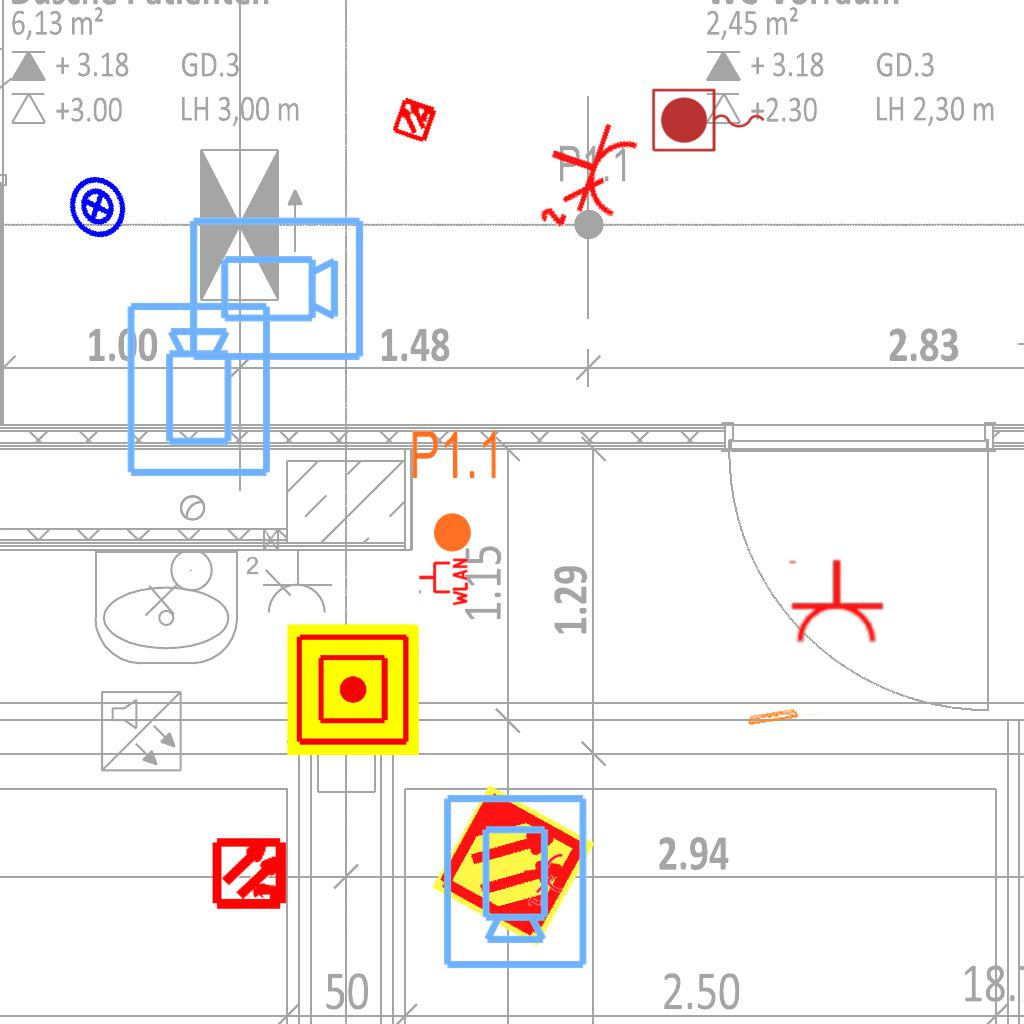ASR_Ansaugrauchmelder: (428, 780, 599, 951)
Downlight_LED_Einbauleuchten_Flur_2: (409, 427, 502, 555)
KFO_Kamera_mit_Festobjektiv: (123, 299, 277, 481), (185, 213, 367, 367), (437, 790, 591, 972)
NAM-Nichtautomatischer_Melder: (287, 624, 419, 756)
OT_Multisensormelder_(Kombination_RMO_WMD): (195, 817, 308, 930), (379, 83, 451, 155)
Schukosteckdose_einfach: (785, 558, 885, 645)
Schukosteckdose_mehrfach: (524, 103, 647, 247), (521, 847, 565, 907)
Sicherheitsleuchte_Wandeinbau: (745, 702, 825, 727)
Taster_beleuchtet: (54, 164, 140, 250)
WLAN: (417, 556, 469, 608)
Zugtaster: (648, 85, 770, 157)
